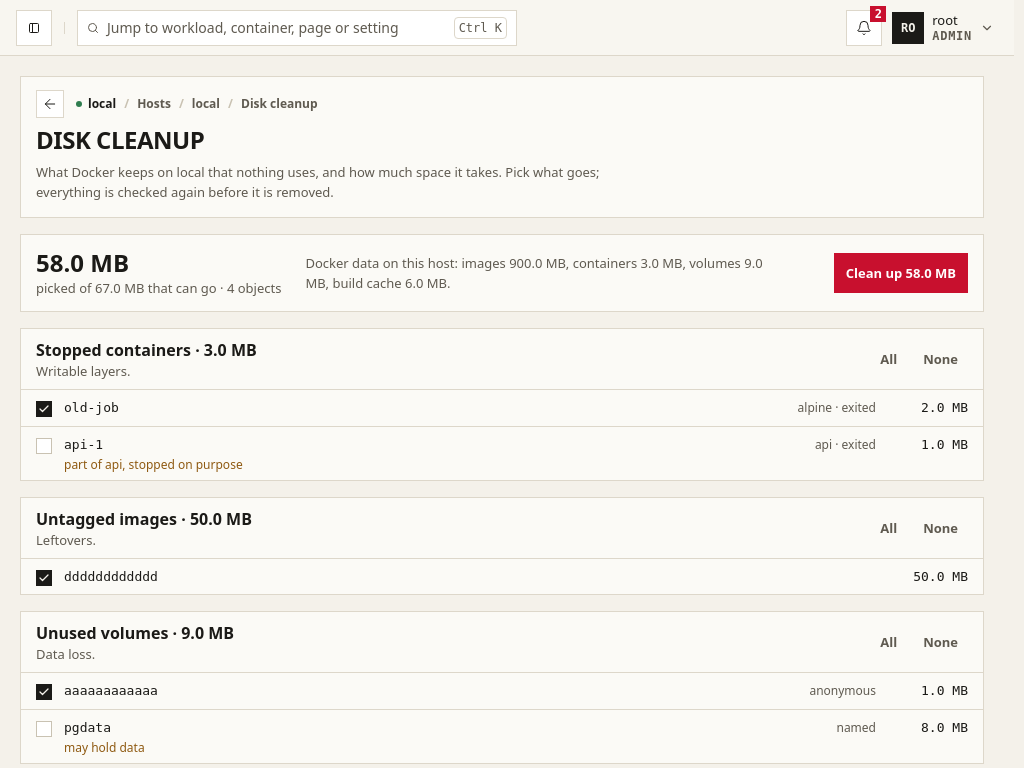
Scenario: disk cleanup page › shows the plan, lets the operator change picks and runs it
Expected: the text "58.0 MB" is shown, [36,246,129,279]
Expected: the text "picked of 67.0 MB that can go · 4 objects" is shown, [36,278,282,298]
Click the checkbox named "Remove pgdata".
click(44, 729)  # box [36,721,52,737]
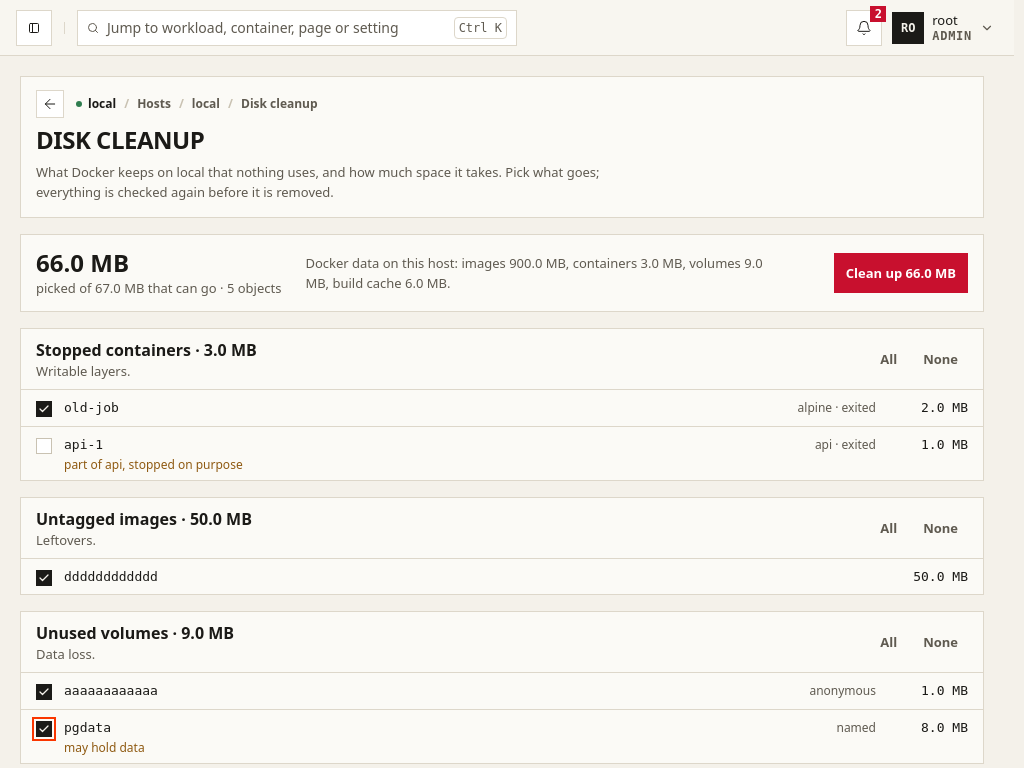
Click the checkbox named "Remove old-job".
click(44, 409)  # box [36,401,52,417]
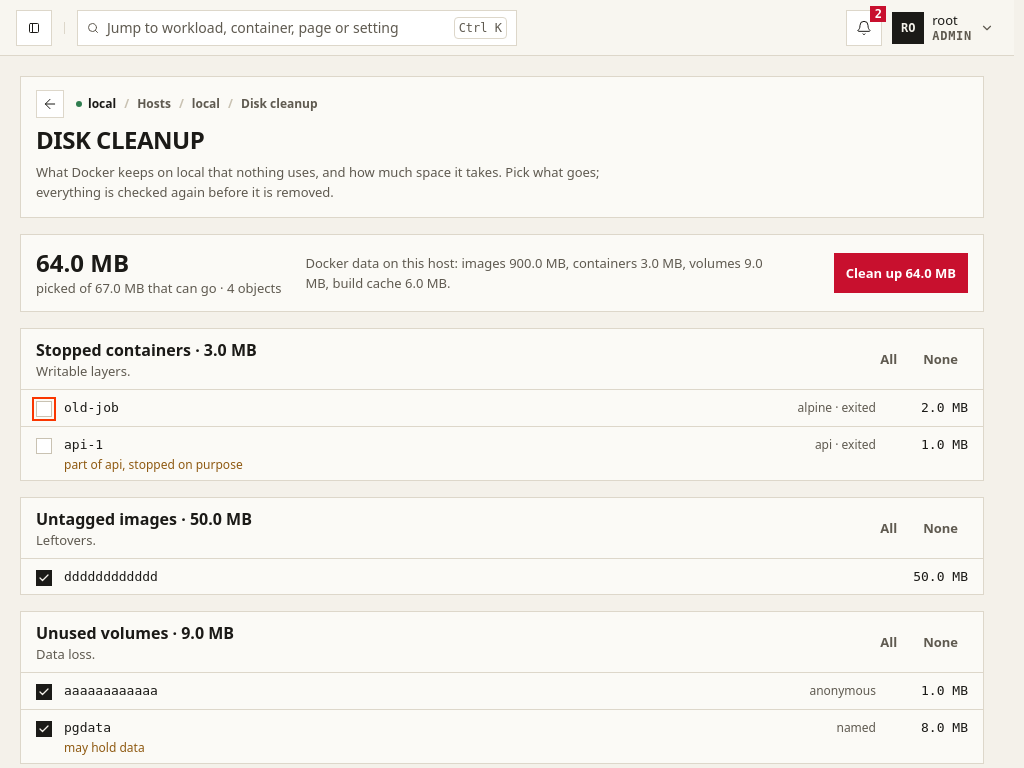
Expected: the text "64.0 MB" is shown, [36,246,129,279]
Click the button "Clean up 64.0 MB".
click(901, 273)  # box [834,253,968,293]
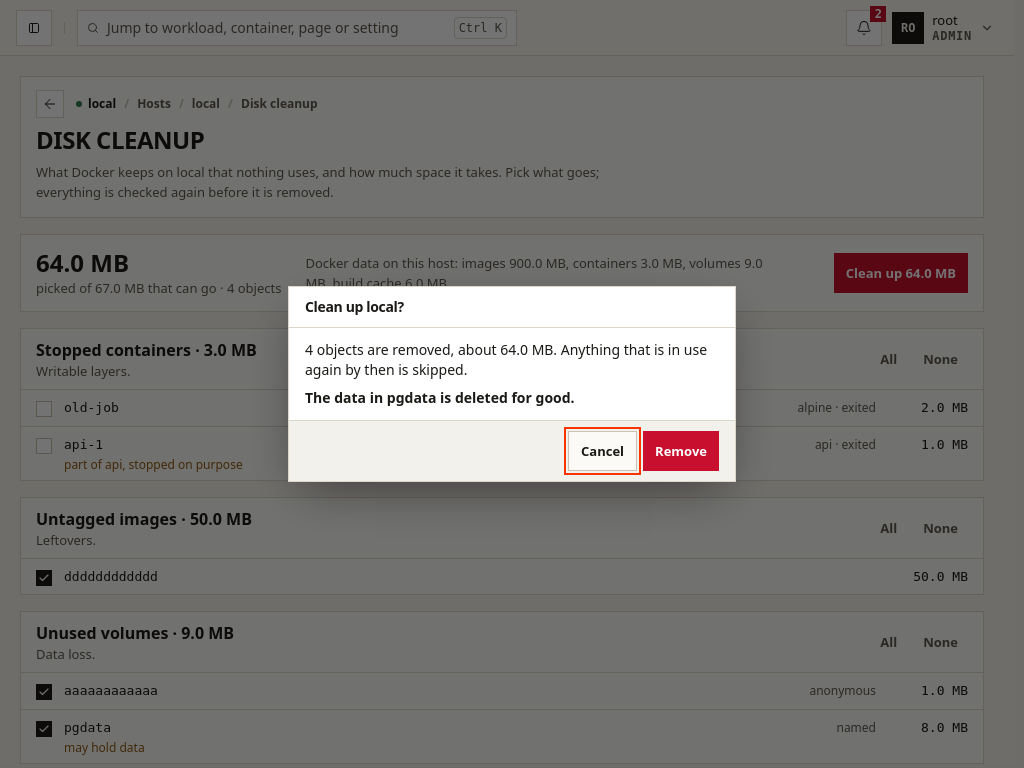
Expected: the text "The data in pgdata is deleted for good." is shown, [305,388,575,407]
Click the button "Remove".
click(681, 451)  # box [643,431,719,471]
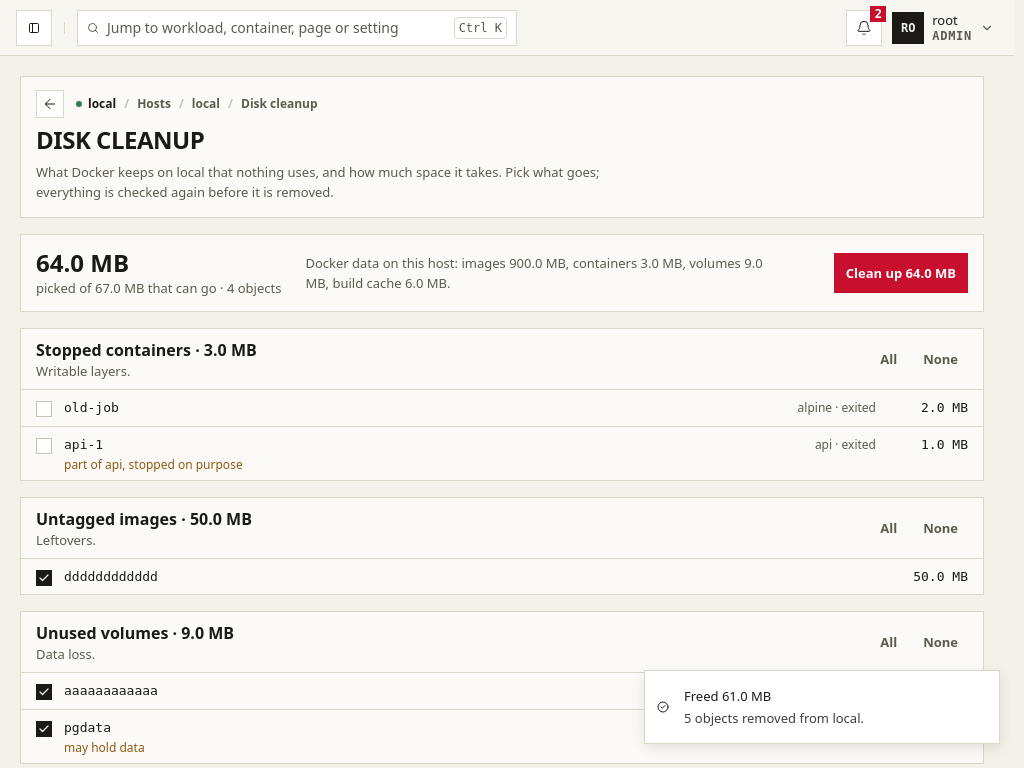
Expected: the text "Freed 61.0 MB" is shown, [684,687,771,705]
